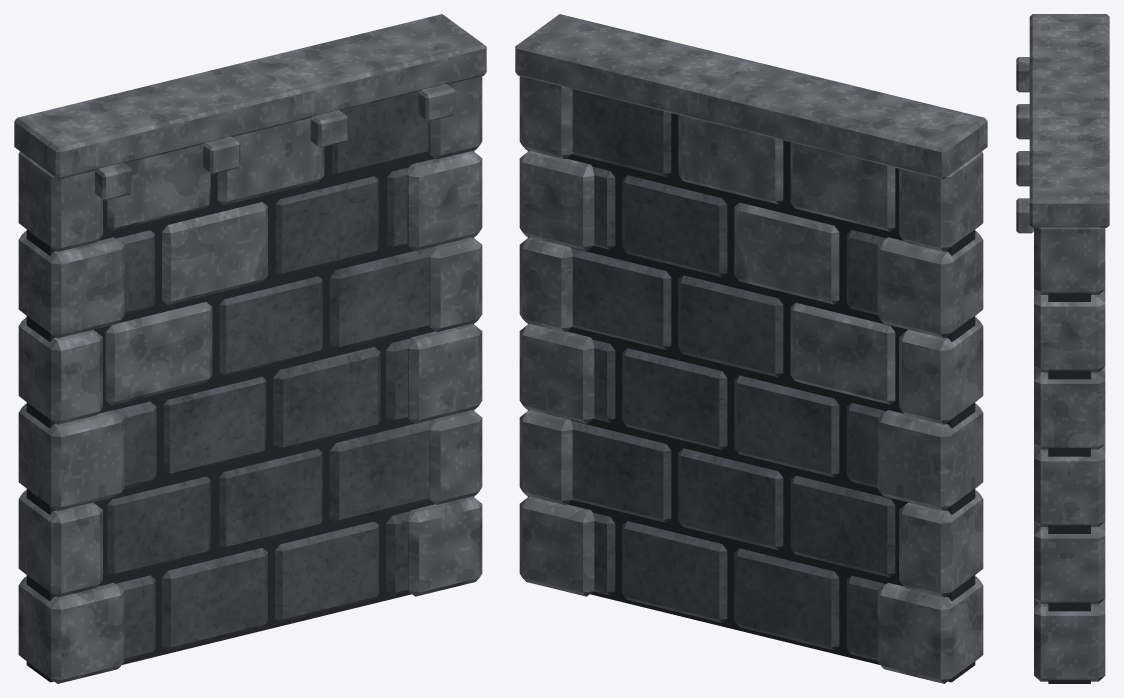
The picture shows the model from 3 angles, left to right: view 1: azimuth 30°, elevation 25°; view 2: azimuth 150°, elevation 25°; view 3: azimuth 270°, elevation 25°; orthographic projection. The views are drawn at different scales.
Parts seen in each view (by area): view 1: tooled-granite-edges, granite-ashlar, mortar-joint-recess; view 2: tooled-granite-edges, granite-ashlar, mortar-joint-recess; view 3: tooled-granite-edges, mortar-joint-recess.
Part boxes in pixels (x1,y1,x2,y2): tooled-granite-edges: [14, 14, 486, 683]; granite-ashlar: [107, 91, 431, 660]; mortar-joint-recess: [26, 145, 474, 682]; tooled-granite-edges: [515, 14, 987, 683]; granite-ashlar: [571, 89, 907, 660]; mortar-joint-recess: [527, 113, 975, 682]; tooled-granite-edges: [1016, 14, 1109, 681]; mortar-joint-recess: [1048, 293, 1090, 683].
Bounding box in the file's own units: 2 × 2.4 × 0.42.
3 materials, 2 textured.
